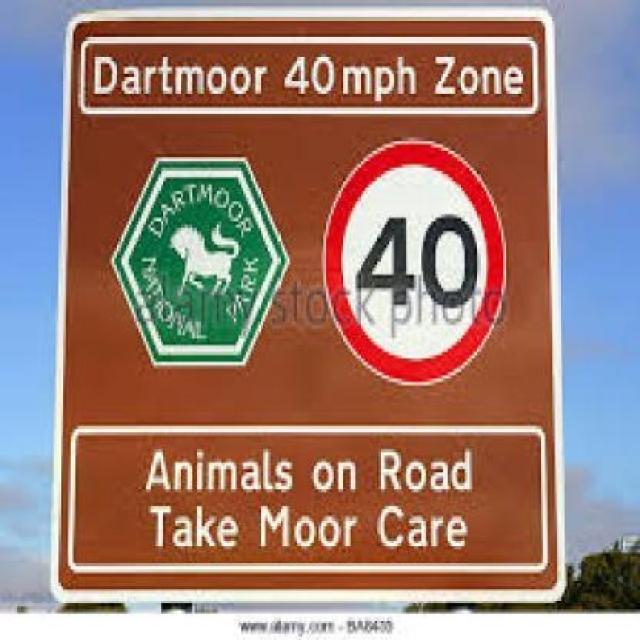forb_speed_over_40: (332, 145, 503, 380)
